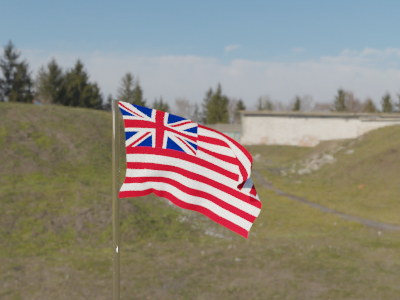Malaysia flag: (117, 101, 270, 240)
